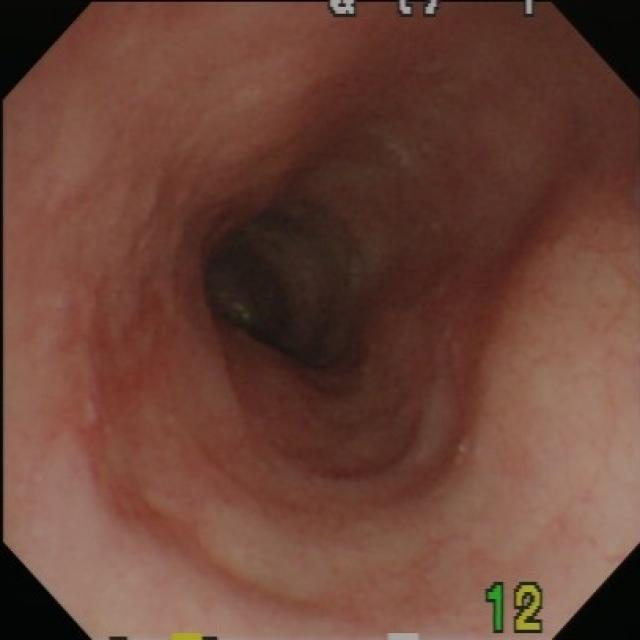A: (70, 278, 182, 549)
E: (194, 211, 358, 369)
S: (325, 3, 545, 20), (485, 581, 547, 636)
